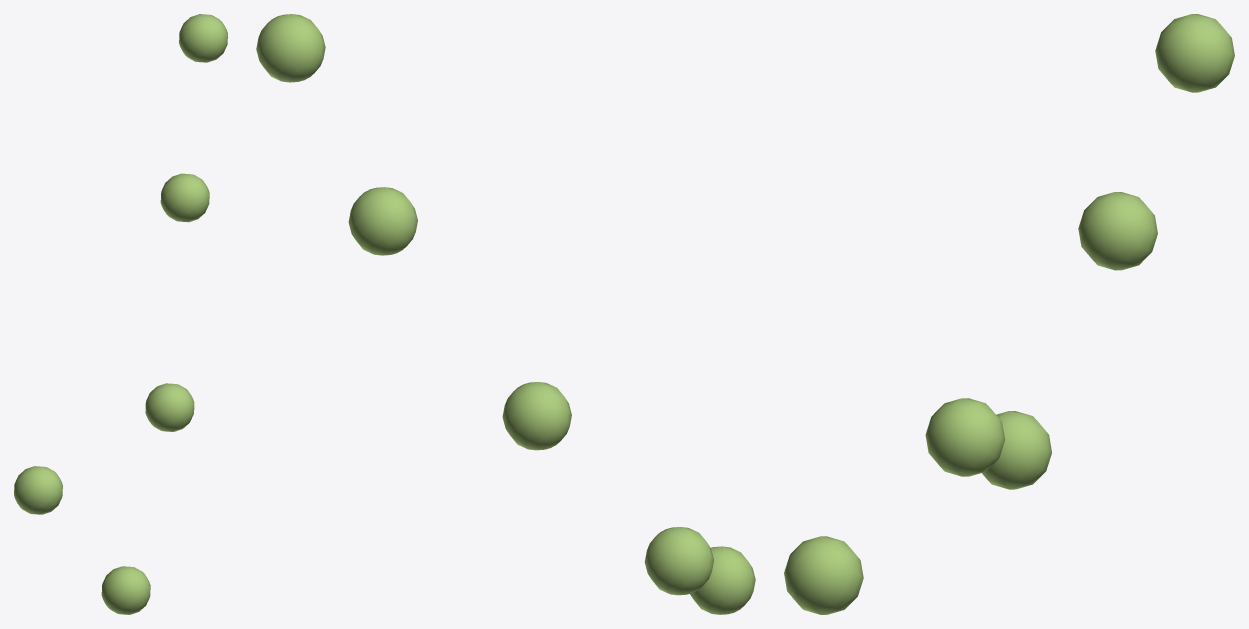
Rendered from supratrochlear-nodes-l.glb.
3 renders of one model, left to right at view 1: azimuth 30°, elevation 25°; view 2: azimuth 150°, elevation 25°; view 3: azimuth 270°, elevation 25°, orthographic. The views are drawn at different scales.
Visible parts, largest first — view 1: Supratrochlear nodes.l; view 2: Supratrochlear nodes.l; view 3: Supratrochlear nodes.l.
Part boxes in pixels (<box>): Supratrochlear nodes.l: <box>14,14,227,614</box>; Supratrochlear nodes.l: <box>256,14,755,614</box>; Supratrochlear nodes.l: <box>784,14,1234,614</box>.
Size of the model in its own units: 0.0159 by 0.0266 by 0.0146.
